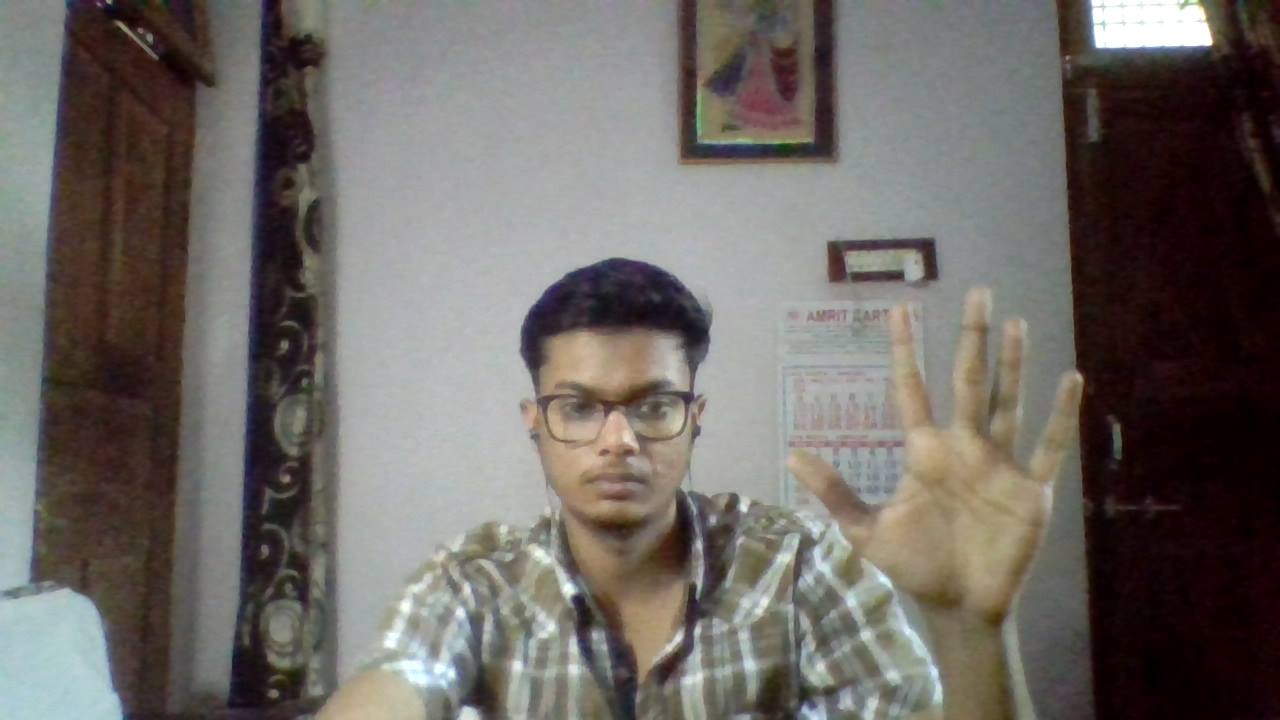five: (772, 279, 1105, 640)
